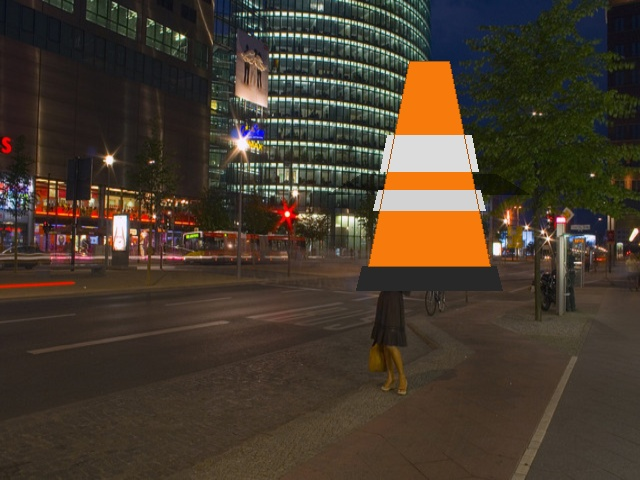traffic-cone: (356, 61, 502, 290)
